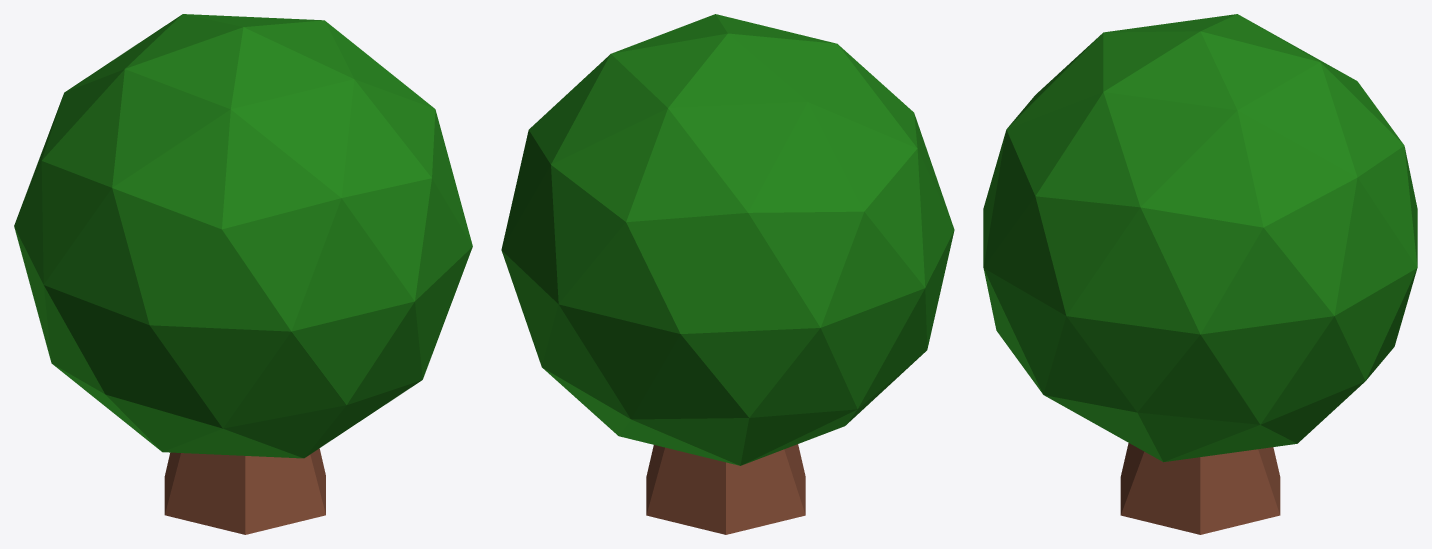
Rendered from Bush_2_summer_mat.fbx.
The picture shows the model from 3 angles, left to right: view 1: azimuth 30°, elevation 25°; view 2: azimuth 150°, elevation 25°; view 3: azimuth 270°, elevation 25°; orthographic projection.
Visible parts, largest first — view 1: Bush_2_summer_mat; view 2: Bush_2_summer_mat; view 3: Bush_2_summer_mat.
Boxes of the visible parts, left/top/right/bottom form: Bush_2_summer_mat: left=14, top=14, right=472, bottom=534; Bush_2_summer_mat: left=501, top=14, right=954, bottom=534; Bush_2_summer_mat: left=983, top=14, right=1417, bottom=534.
Bounding box in the file's own units: 35.19 × 39.46 × 33.47.
